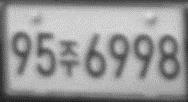5: (35, 31, 56, 78)
6: (83, 32, 106, 79)
8: (158, 33, 181, 80)
9: (132, 33, 155, 80), (108, 33, 131, 79), (10, 30, 33, 75)
주: (56, 38, 81, 78)
